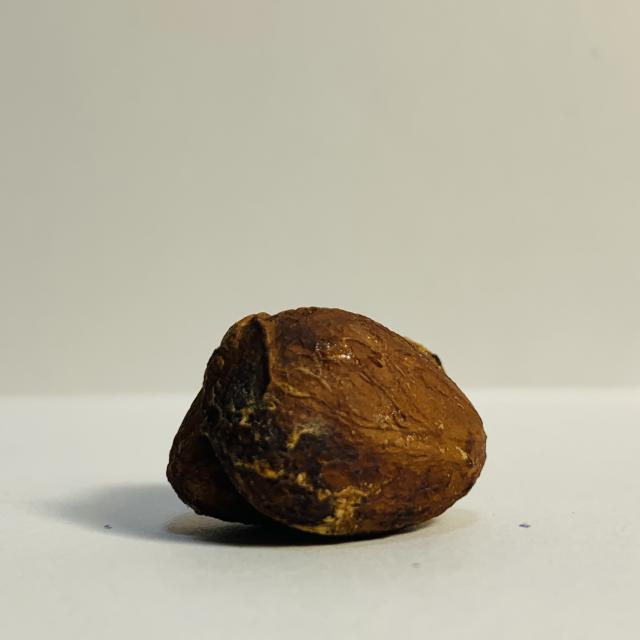Agglomerated_cocoabeans: (84, 278, 592, 567)
